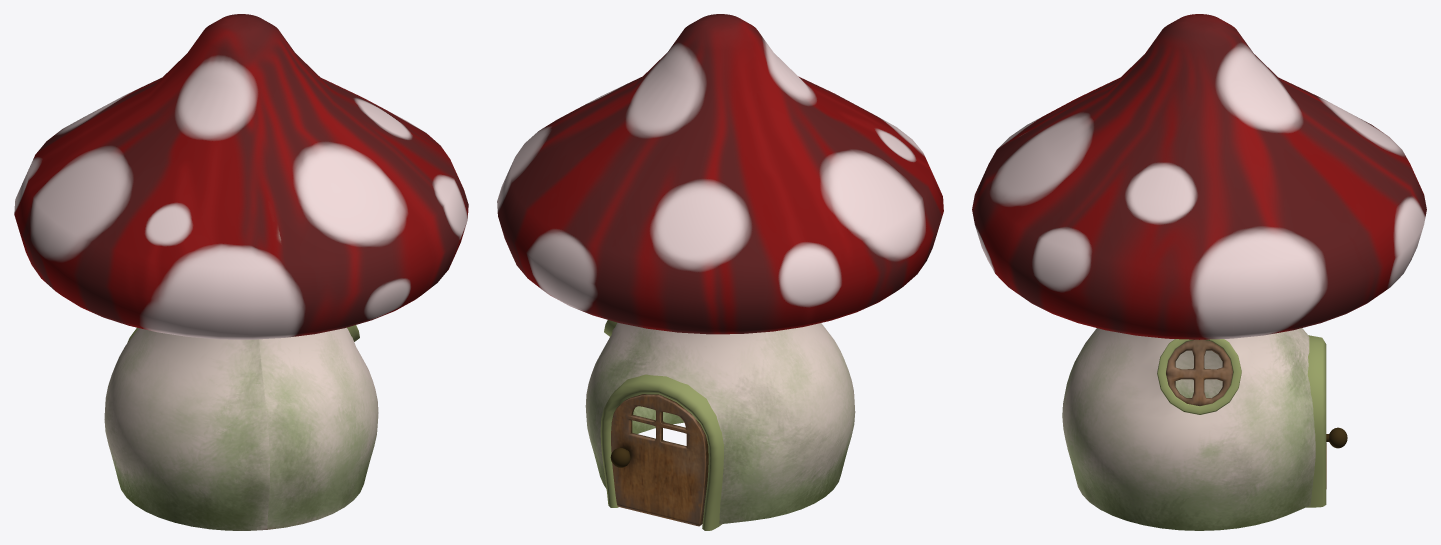
File: painted_gnome_house.fbx
3 renders of one model, left to right at view 1: azimuth 30°, elevation 25°; view 2: azimuth 150°, elevation 25°; view 3: azimuth 270°, elevation 25°, orthographic.
Visible parts, largest first — view 1: main; view 2: main, door, doorframe; view 3: main, doorframe, window, windowedge.
Part boxes in pixels (x1,y1,x2,y2): main: (14,14,468,530); main: (497,14,943,524); door: (611,394,708,526); doorframe: (600,374,723,530); main: (972,14,1426,530); doorframe: (1306,335,1326,507); window: (1166,339,1232,405); windowedge: (1157,339,1241,414).
Size of the model in its own units: 52.55 by 58.59 by 52.55.
